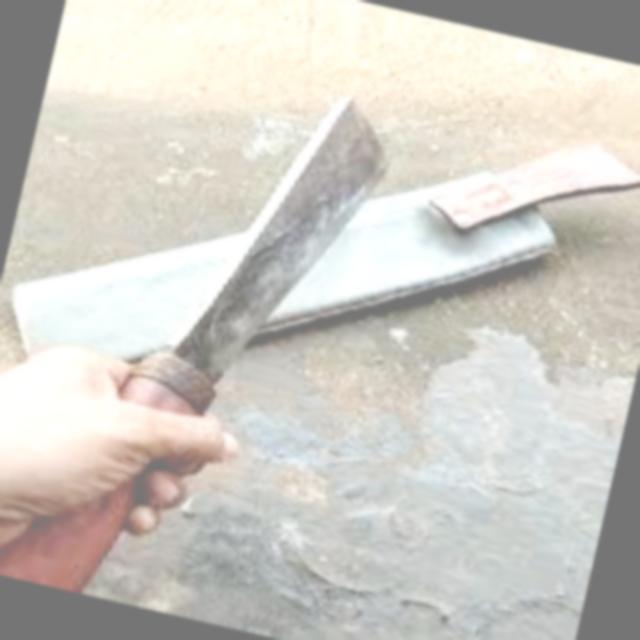eto: (0, 91, 396, 593)
